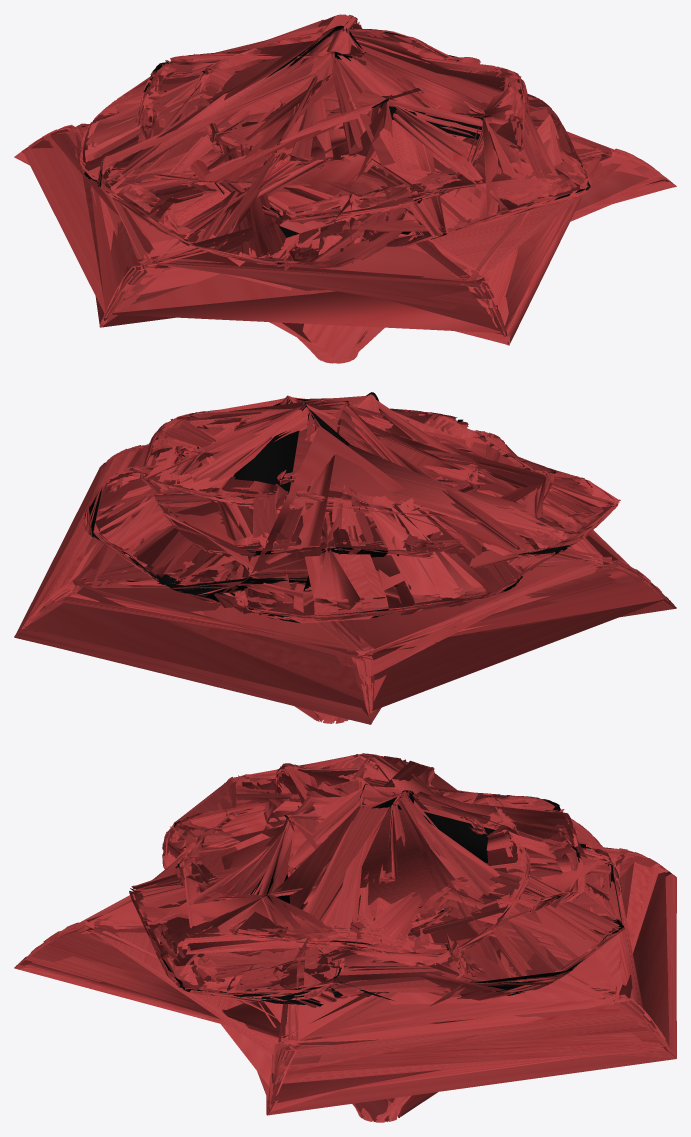
The model's file is rose_5_modify.obj.
3 views of the same model, one above another, from view 1: azimuth 30°, elevation 25°; view 2: azimuth 150°, elevation 25°; view 3: azimuth 270°, elevation 25° (orthographic). The views are drawn at different scales.
Visible parts, largest first — view 1: Mesh; view 2: Mesh; view 3: Mesh.
Part boxes in pixels (x1,y1,x2,y2): Mesh: (14, 14, 676, 363); Mesh: (14, 392, 676, 724); Mesh: (14, 753, 676, 1122).
Bounding box in the file's own units: 35.62 × 18.7 × 33.88.
